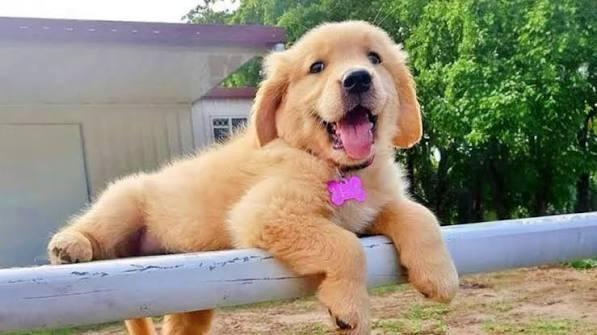puppy-dog: (45, 22, 463, 332)
